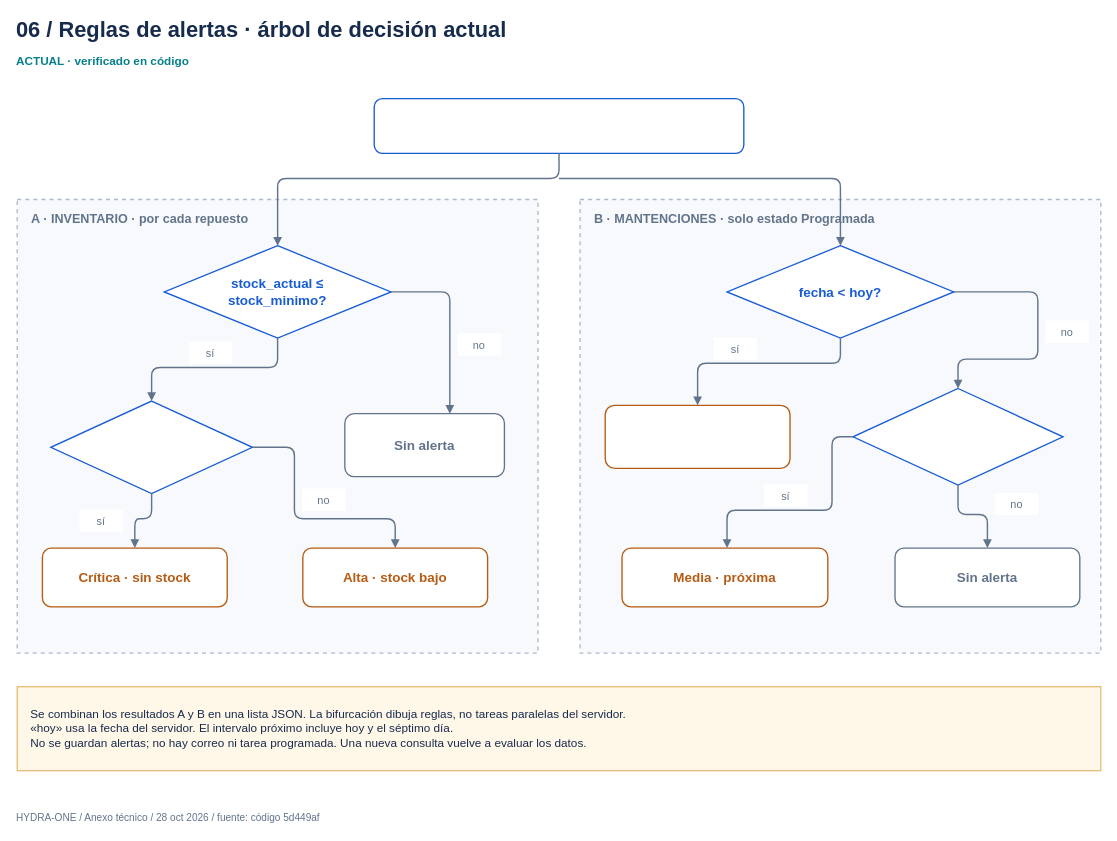
The diagram is 1117 pixels wide and 841 high, and some of its shapes have lost their labels. The shapes that lost their labels are listed below. From the top down, each one's centre as x and y in pixels, then its label:
At (558,126): "GET /api/alertas/ · cálculo al consultar".
At (151,447): "stock_actual = 0?".
At (697,436): "Crítica · vencida".
At (957,436): "fecha ≤ hoy + 7?".
